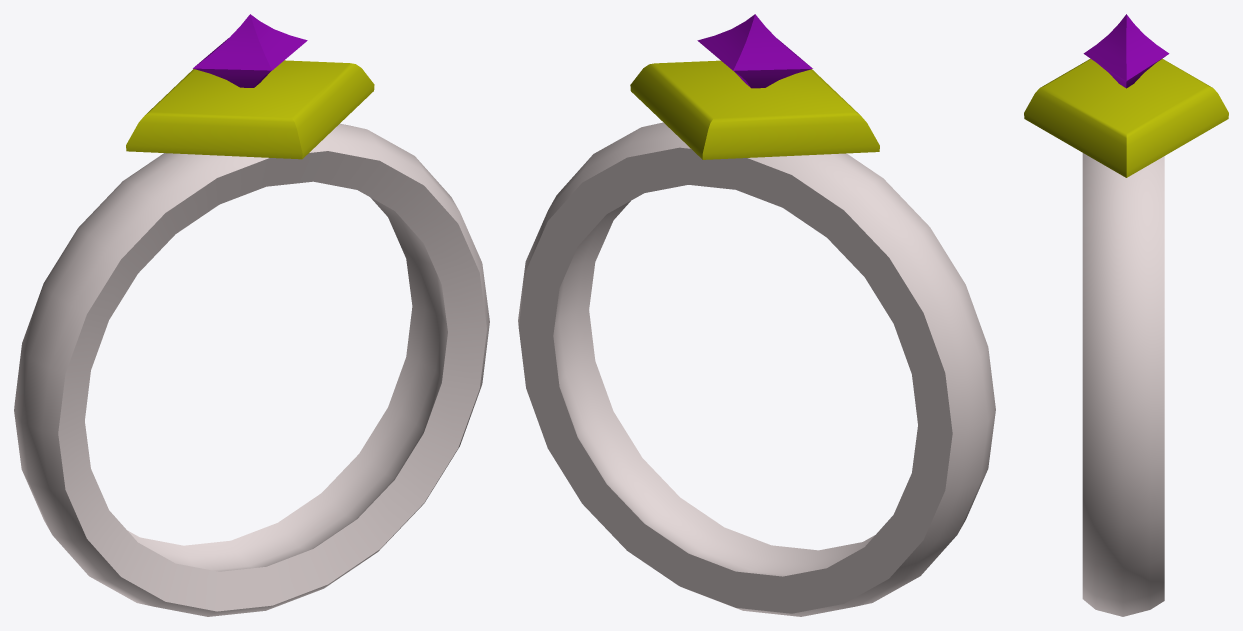
The model's file is ring.fbx.
The picture shows the model from 3 angles, left to right: view 1: azimuth 30°, elevation 25°; view 2: azimuth 150°, elevation 25°; view 3: azimuth 270°, elevation 25°; orthographic projection. The views are drawn at different scales.
Visible parts, largest first — view 1: ring; view 2: ring; view 3: ring.
Boxes of the visible parts, x1,y1,x2,y2 form: ring: (14,14,489,616); ring: (518,14,995,616); ring: (1024,14,1228,616).
Bounding box in the file's own units: 55.65 × 68.33 × 21.9.
